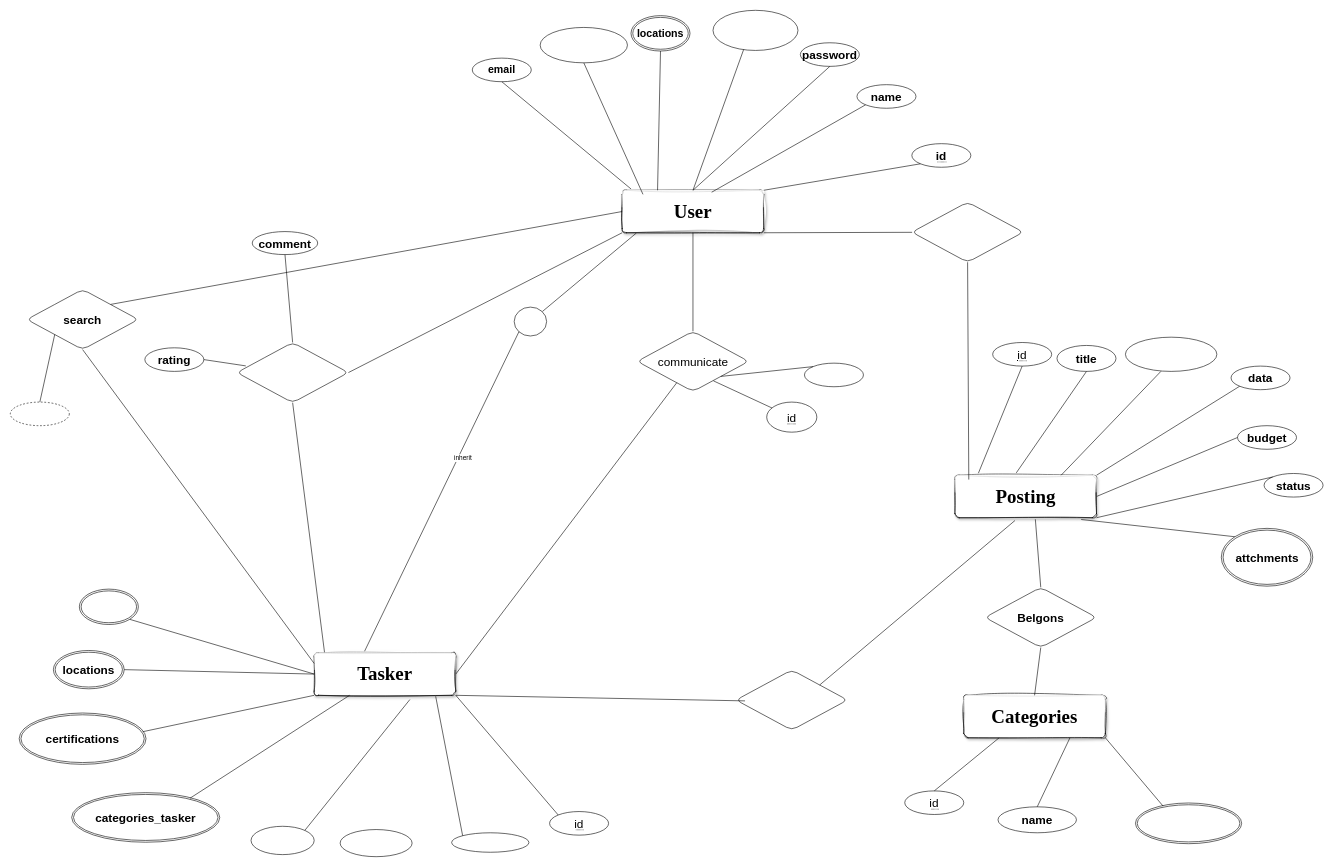
Some shapes in this 1333 by 867 pixel diagram are drawn without their labels. Each missing label, with the centre of its shape:
"apply" belongs at (791,699).
"avgRating" belongs at (376,843).
"bio" belongs at (490,842).
"description" belongs at (1171,354).
"keywords" belongs at (39,413).
"message" belongs at (833,375).
"phone_number" belongs at (583,45).
"pricing" belongs at (282,840).
"profile_picutre" belongs at (755,30).
"reviews" belongs at (292,372).
"skills" belongs at (108,607).
"subcatecoreis" belongs at (1188,823).
"writes" belongs at (967,231).
